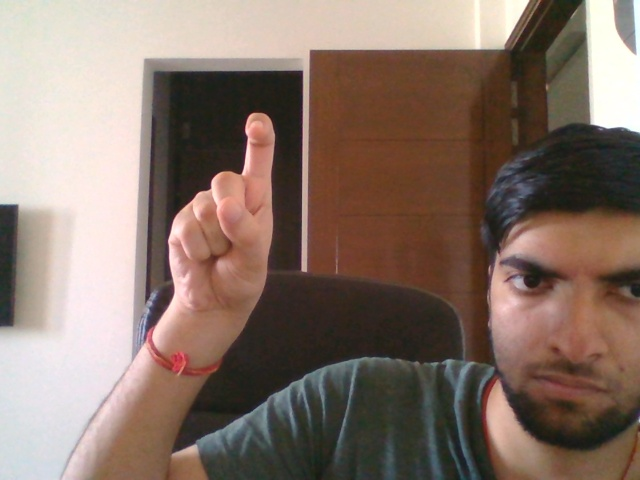LetterZ: (165, 108, 279, 322)
